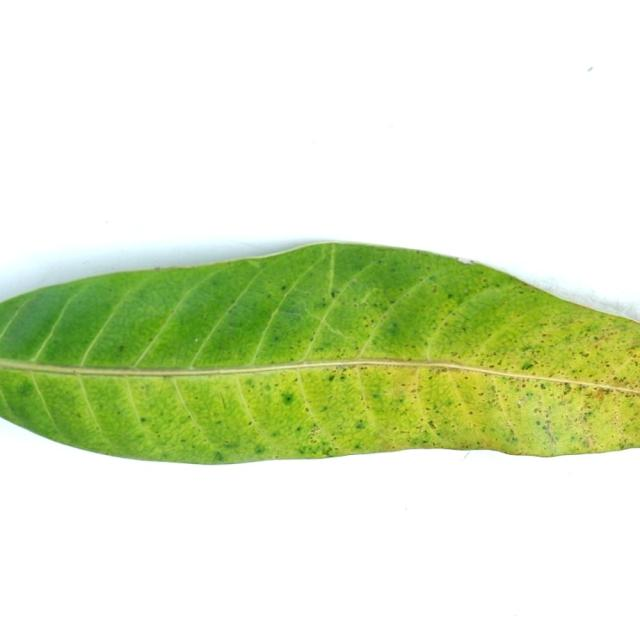Mango: (0, 244, 639, 463)
Powdery_Mildew: (586, 329, 624, 356), (606, 403, 626, 437), (274, 304, 307, 322), (295, 439, 328, 456), (274, 391, 301, 407), (541, 420, 556, 445), (268, 330, 288, 348), (15, 382, 33, 398), (383, 441, 402, 451), (595, 388, 608, 401), (561, 381, 572, 392), (254, 444, 266, 454), (388, 321, 399, 331), (506, 433, 517, 443), (310, 424, 320, 435), (521, 362, 534, 370), (355, 419, 365, 429), (213, 451, 223, 461), (220, 396, 227, 409), (287, 354, 297, 363), (370, 392, 381, 400), (462, 374, 471, 383), (327, 374, 336, 382), (330, 289, 339, 297), (427, 420, 436, 428), (437, 367, 447, 374), (319, 299, 327, 307), (520, 381, 528, 389), (361, 365, 369, 373), (428, 275, 437, 282), (364, 319, 373, 326), (450, 351, 459, 358), (245, 387, 252, 396), (528, 286, 538, 292), (339, 372, 346, 380), (580, 351, 589, 357), (540, 333, 549, 339), (534, 407, 541, 414), (459, 327, 467, 333), (487, 364, 496, 369), (295, 426, 302, 432), (447, 293, 454, 299), (539, 383, 546, 389), (432, 286, 438, 293), (248, 420, 254, 427), (153, 266, 161, 271), (118, 345, 124, 351), (535, 420, 541, 426), (227, 307, 233, 313), (71, 369, 77, 375), (140, 417, 146, 422), (281, 285, 287, 290), (389, 300, 395, 305), (266, 293, 271, 299), (193, 395, 199, 400), (352, 278, 358, 283), (478, 392, 484, 397), (593, 336, 600, 340), (378, 259, 383, 264), (516, 401, 521, 406), (354, 303, 359, 307), (416, 250, 421, 254), (194, 338, 198, 342)
